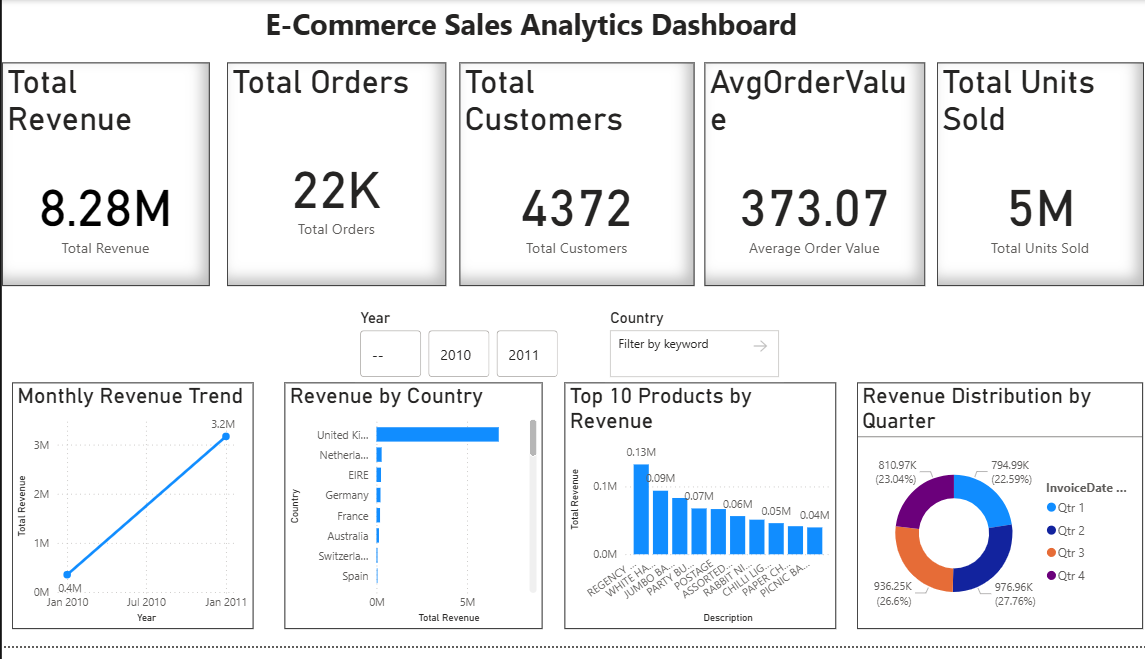

Layout of this report page (visuals, bound fields, positions):
{"tool":"powerbi","page":{"name":"Page 1","canvas":[1280,720],"ordinal":0},"visuals":[{"type":"card","title":"Total Revenue","fields":{"Values":["sales_data.Total Revenue"]},"box":[0,69.8,231.4,248.8],"z":0},{"type":"card","title":"Total Orders","fields":{"Values":["sales_data.Total Orders"]},"box":[251.2,69.8,244.2,248.8],"z":1000},{"type":"card","title":"Total Customers","fields":{"Values":["sales_data.Total Customers"]},"box":[509.3,69.8,261.6,248.8],"z":2000},{"type":"card","title":"AvgOrderValue","fields":{"Values":["sales_data.Average Order Value"]},"box":[782.6,69.8,245.3,248.8],"z":3000},{"type":"card","title":"Total Units Sold","fields":{"Values":["sales_data.Total Units Sold"]},"box":[1040.7,69.8,230.2,248.8],"z":4000},{"type":"lineChart","title":"Monthly Revenue Trend","fields":{"Category":["sales_data.InvoiceDate.Variation.Date Hierarchy.Year"],"Y":["sales_data.Total Revenue"]},"box":[11.6,425.6,268.6,274.4],"z":5000},{"type":"clusteredBarChart","title":"Revenue by Country","fields":{"Y":["sales_data.Total Revenue"],"Category":["sales_data.Country"]},"box":[315.1,425.6,287.2,274.4],"z":6000},{"type":"clusteredColumnChart","title":"Top 10 Products by Revenue","fields":{"Category":["sales_data.Description"],"Y":["sales_data.Total Revenue"]},"box":[625.6,425.6,302.3,274.4],"z":7000},{"type":"donutChart","title":"Revenue Distribution by Quarter","fields":{"Category":["sales_data.InvoiceDate.Variation.Date Hierarchy.Quarter"],"Y":["sales_data.Total Revenue"]},"box":[952.3,425.6,318.6,274.4],"z":8000},{"type":"textSlicer","fields":{"Values":["sales_data.Country"]},"box":[672.1,344.2,197.7,81.4],"z":9000},{"type":"advancedSlicerVisual","fields":{"Values":["sales_data.InvoiceDate.Variation.Date Hierarchy.Year"]},"box":[394.2,344.2,231.4,81.4],"z":10000},{"type":"textbox","box":[288.4,0,653.5,54.7],"z":11000}]}

Visuals, with their boxes in screenshot pixels (x1, y1, x2, y2), scaled from the page's 1280x720 canvas onto the 1145x659 screenshot:
"Total Revenue" card: region(0, 64, 207, 292)
"Total Orders" card: region(225, 64, 443, 292)
"Total Customers" card: region(456, 64, 690, 292)
"AvgOrderValue" card: region(700, 64, 919, 292)
"Total Units Sold" card: region(931, 64, 1137, 292)
"Monthly Revenue Trend" lineChart: region(10, 390, 251, 641)
"Revenue by Country" clusteredBarChart: region(282, 390, 539, 641)
"Top 10 Products by Revenue" clusteredColumnChart: region(560, 390, 830, 641)
"Revenue Distribution by Quarter" donutChart: region(852, 390, 1137, 641)
textSlicer - sales_data.Country: region(601, 315, 778, 390)
advancedSlicerVisual - sales_data.InvoiceDate.Variation.Date Hierarchy.Year: region(353, 315, 560, 390)
textbox: region(258, 0, 843, 50)
